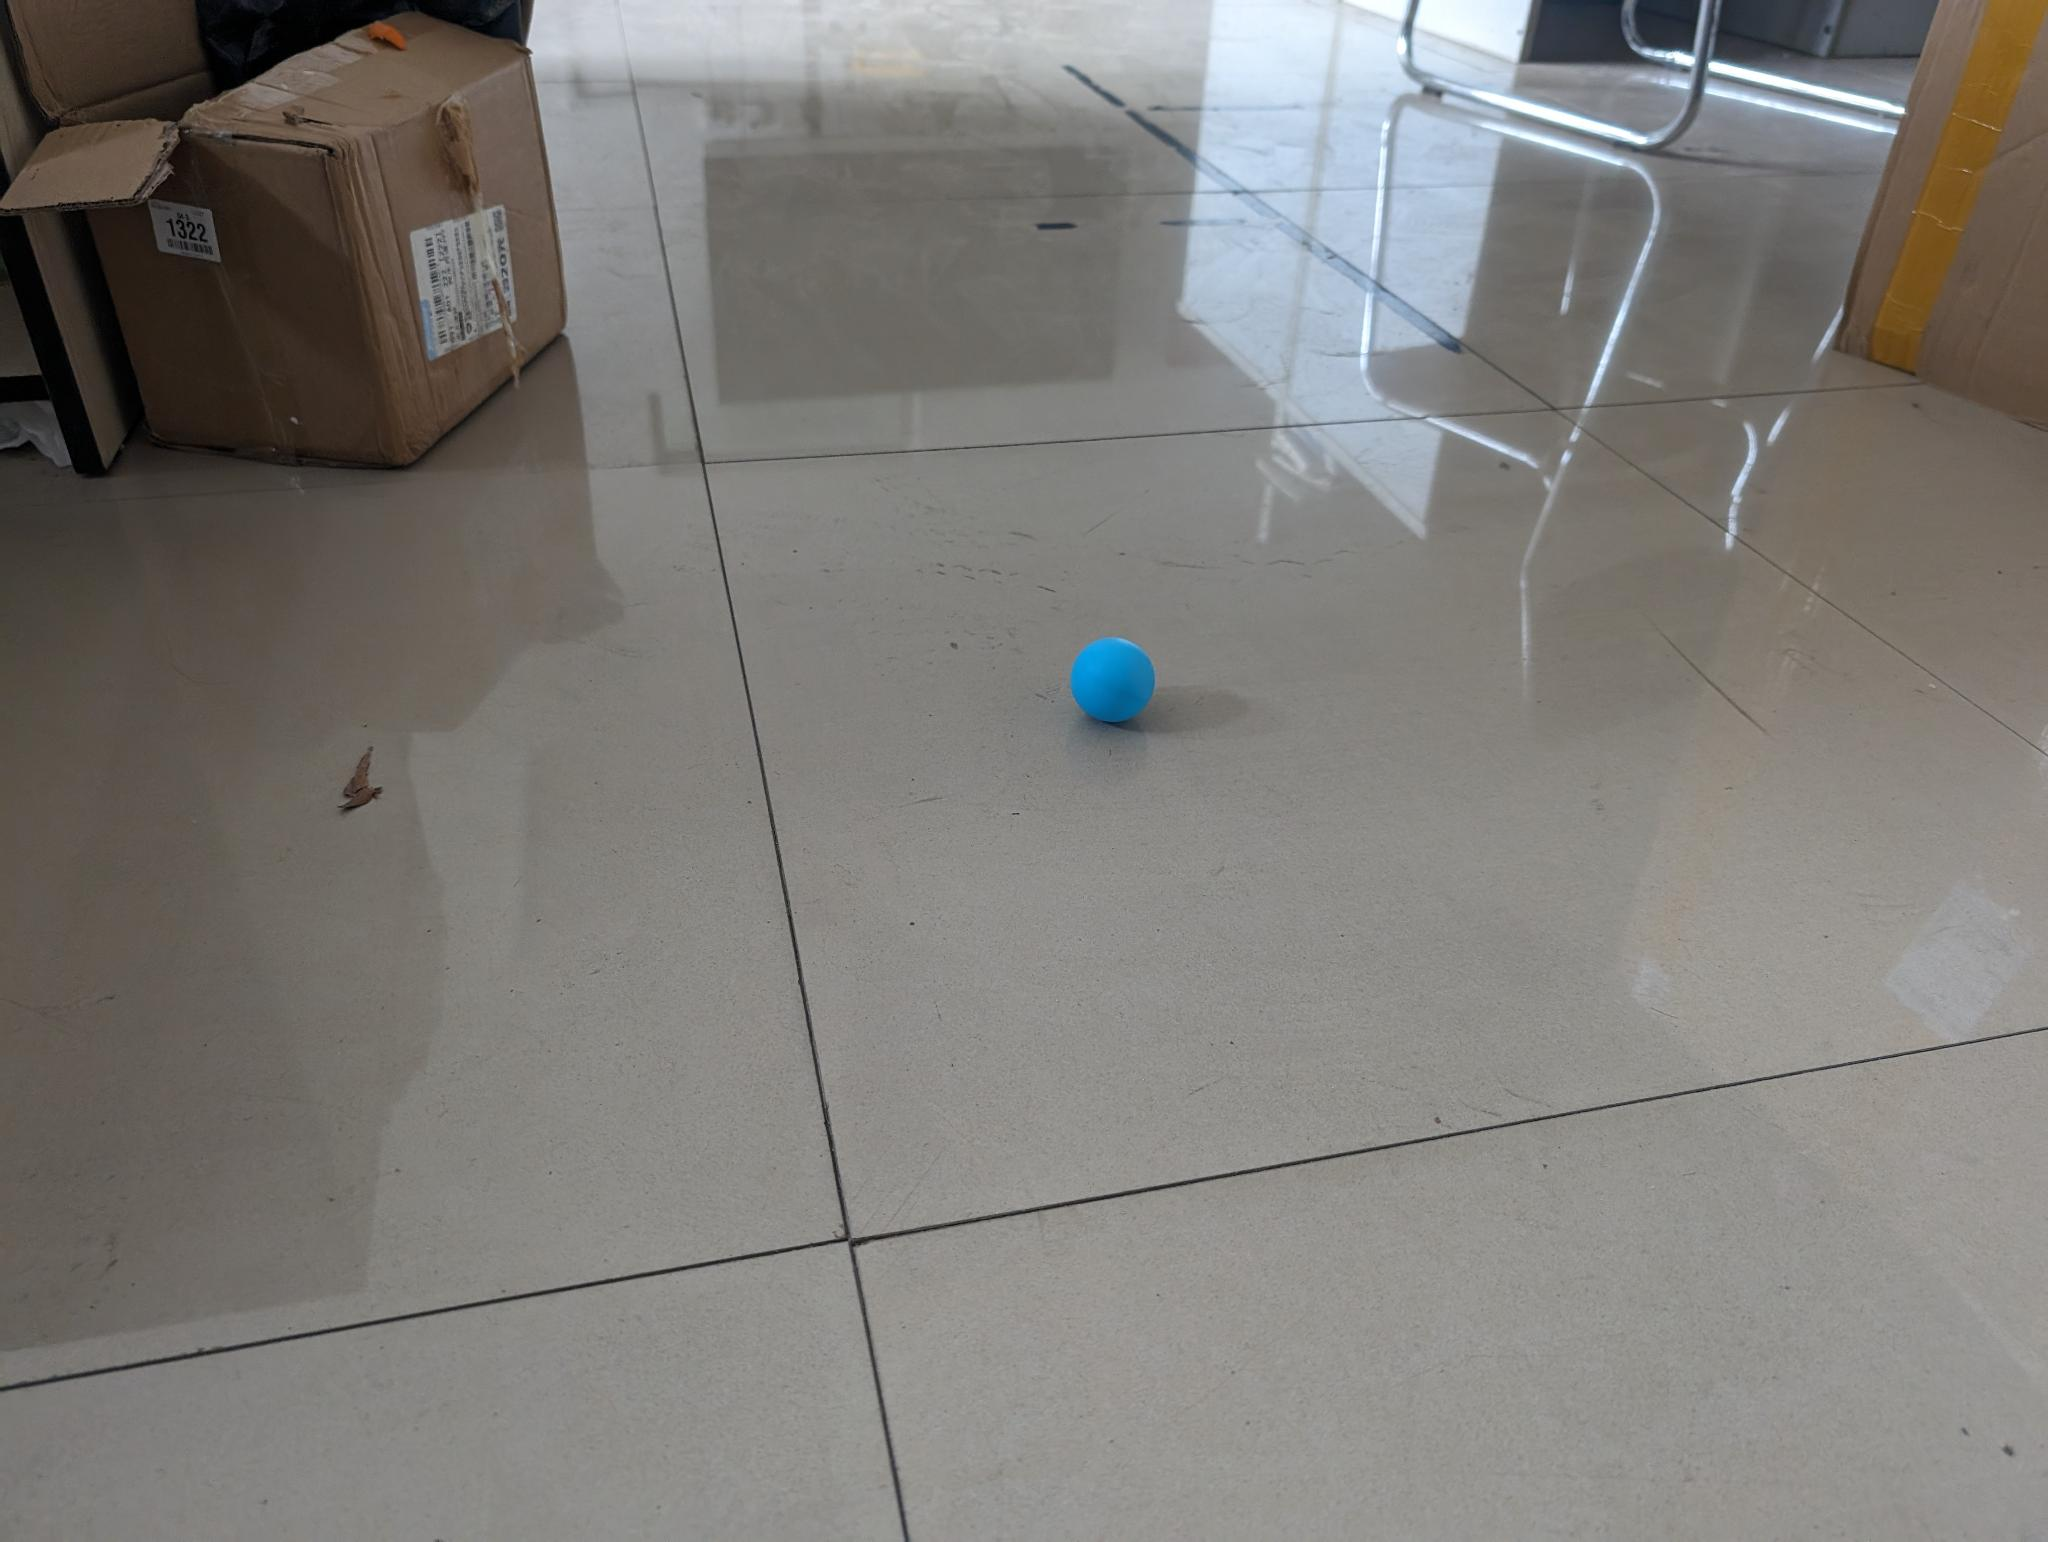ball: (1072, 633, 1154, 732)
